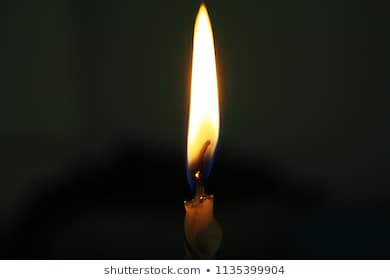Fire: (188, 1, 221, 181)
